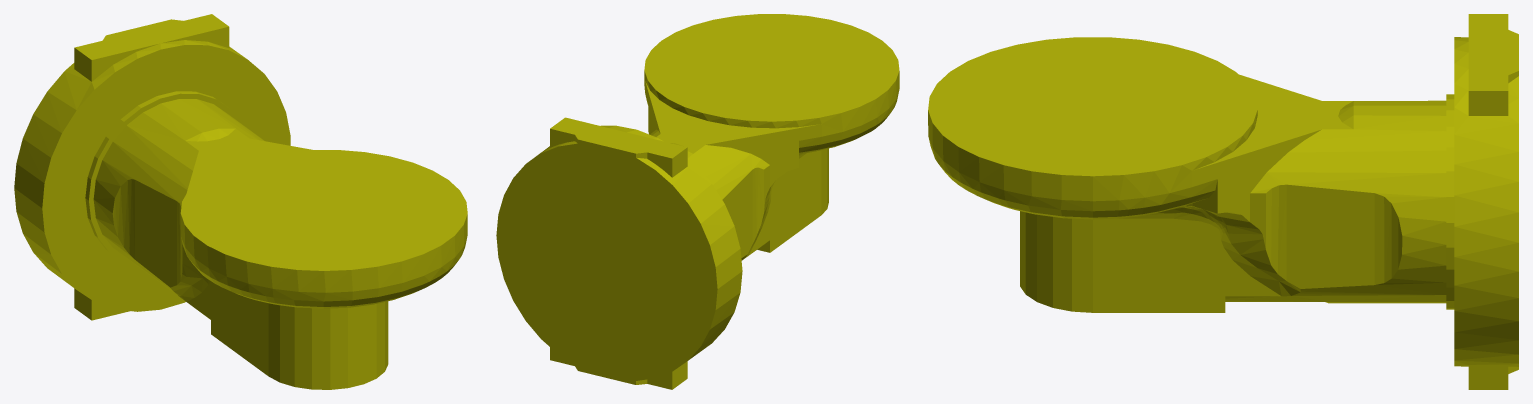
3 renders of one model, left to right at view 1: azimuth 30°, elevation 25°; view 2: azimuth 150°, elevation 25°; view 3: azimuth 270°, elevation 25°, orthographic. The views are drawn at different scales.
Parts seen in each view (by area): view 1: node; view 2: node; view 3: node.
Part boxes in pixels (<box>): node: <box>14,14,467,389</box>; node: <box>496,14,899,389</box>; node: <box>928,14,1518,389</box>.
Size of the model in its own units: 208 by 208 by 373.
